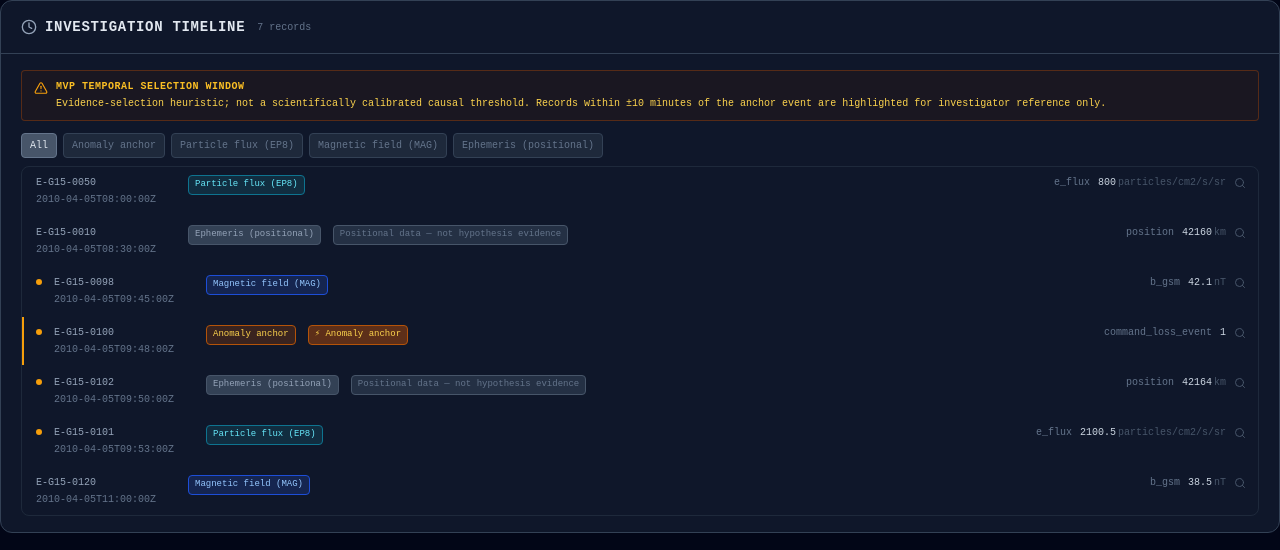
InvestigationTimeline › source filter tabs filter records by source type
Click the button with test id "filter-GOES11_EPHEMERIS". click: (528, 146)
box: [453,133,603,158]
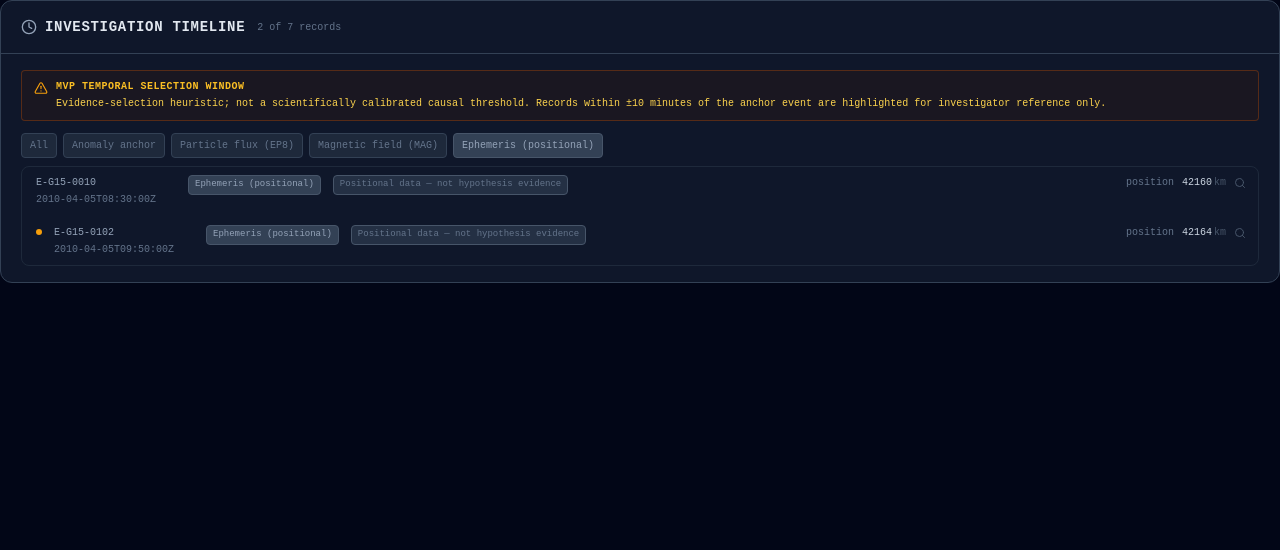
Expected: the button with test id "timeline-row-E-G15-0102" is shown, [22,217,1258,265]
Now the button with test id "timeline-row-E-G15-0100" is gone
Now the button with test id "timeline-row-E-G15-0101" is gone
